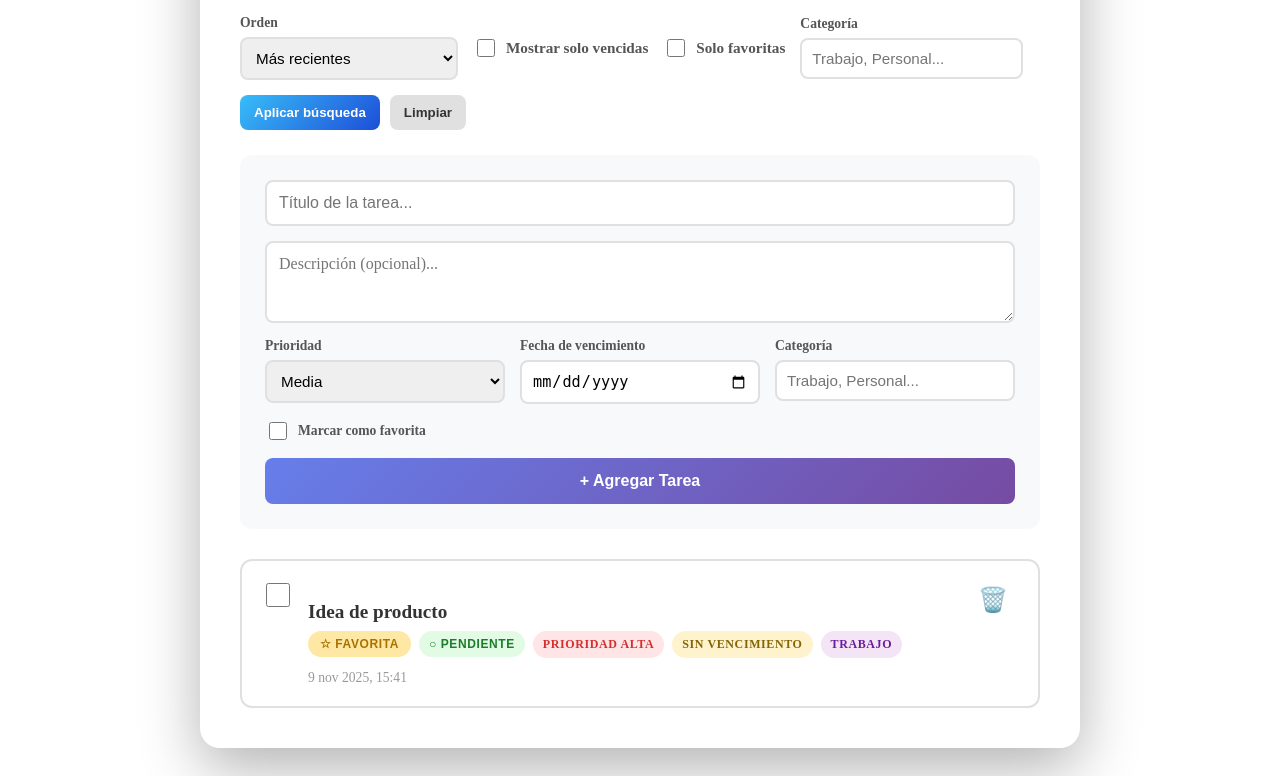
Scenario: App - Gestión de Tareas › permite marcar una tarea como favorita
(page scrolled)
What coordinates should you click on to do the following:
click the button "☆ Favorita"
I would click on:
 (360, 644)
Its box is [308, 631, 411, 657].
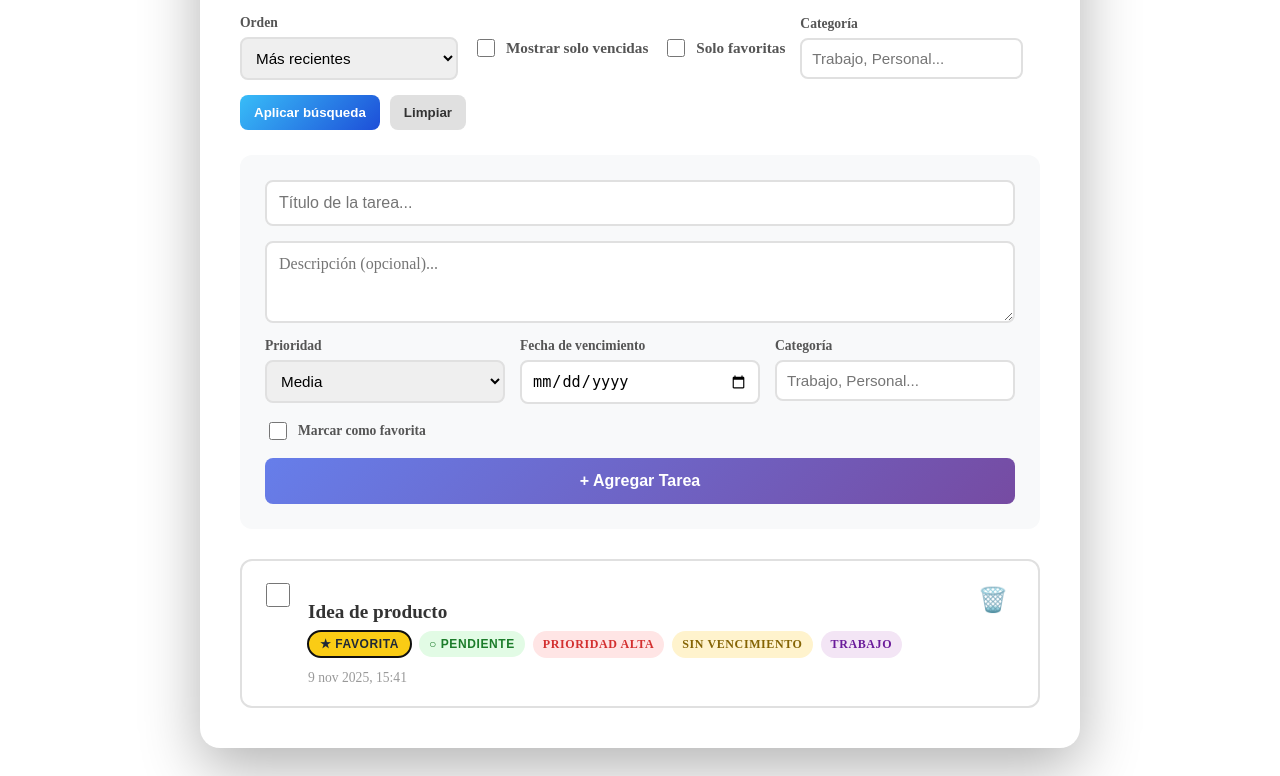
Expected: the button "★ Favorita" is shown, [308, 631, 411, 657]
